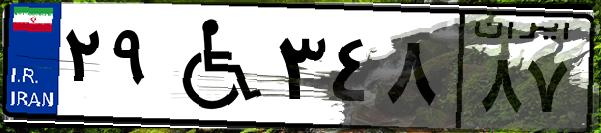2: (57, 26, 110, 100)
3: (270, 28, 330, 110)
4: (330, 28, 385, 110)
7: (525, 38, 570, 115)
8: (385, 28, 445, 110), (475, 38, 525, 113)
9: (110, 28, 158, 98)
ژ (معلولین و جانبازان): (158, 12, 270, 120)
